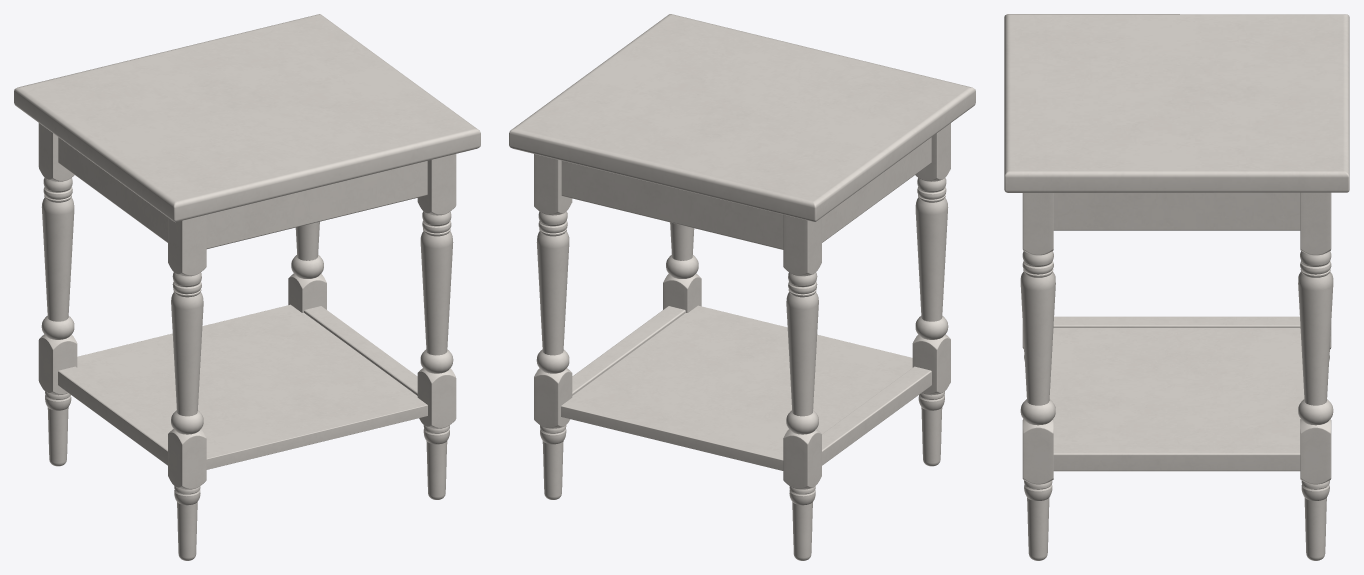
Rendered from table_B07DBDZMSS.glb.
3 renders of one model, left to right at view 1: azimuth 30°, elevation 25°; view 2: azimuth 150°, elevation 25°; view 3: azimuth 270°, elevation 25°, orthographic. The views are drawn at different scales.
Parts seen in each view (by area): view 1: RootNode; view 2: RootNode; view 3: RootNode.
Part boxes in pixels (x1,y1,x2,y2): RootNode: (14, 14, 480, 560); RootNode: (509, 14, 975, 560); RootNode: (1004, 14, 1349, 560).
Size of the model in its own units: 0.4878 by 0.565 by 0.4421.
1 material, 1 textured.
